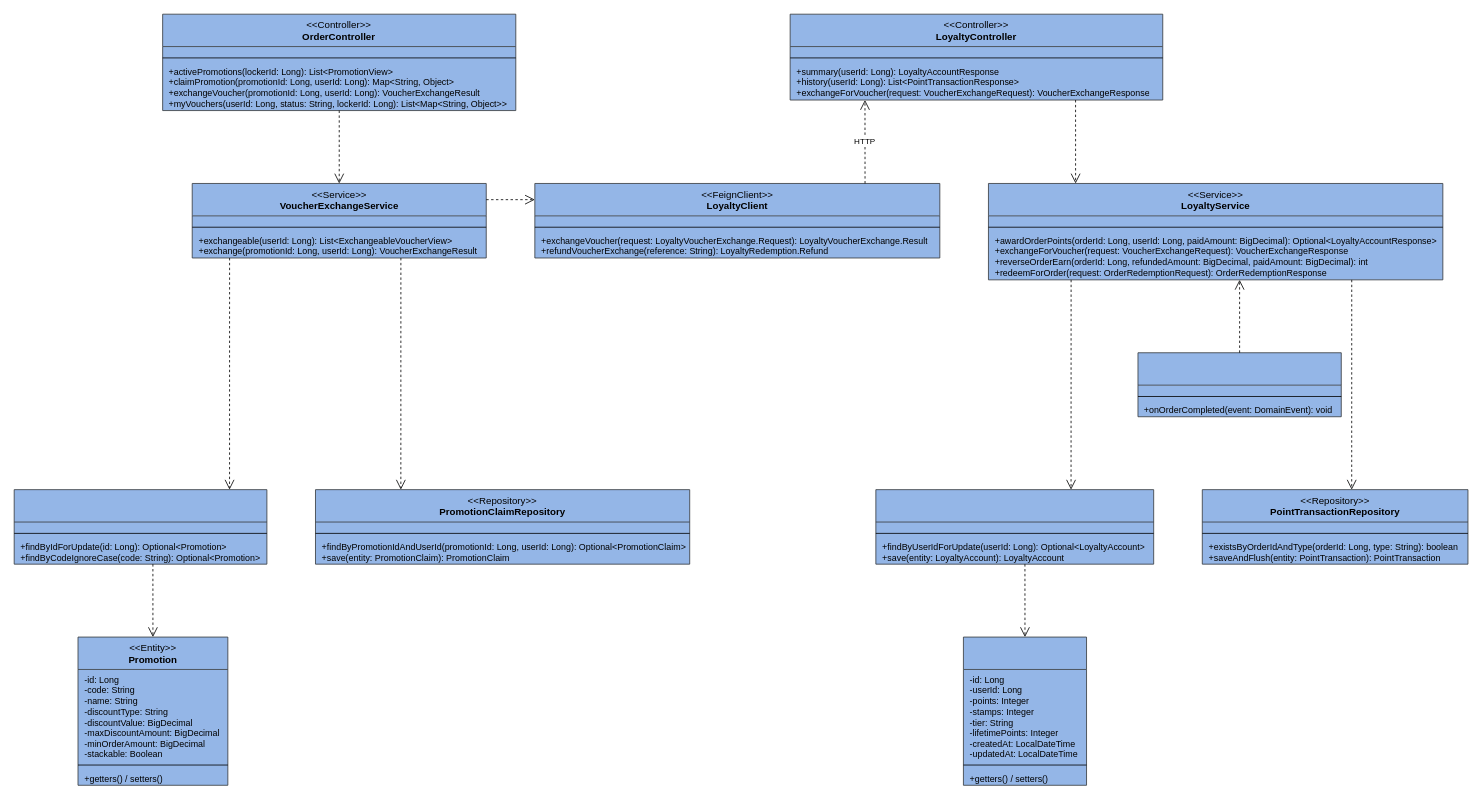
This 1482x802 diagram has some shape labels left out. Here are the shapes that lost their labels. From the top down, the box of each, then its label:
(1137, 352, 1341, 417): <<Component>> OrderCompletedPointsListener
(13, 489, 267, 564): <<Repository>> PromotionRepository
(875, 489, 1154, 564): <<Repository>> LoyaltyAccountRepository
(963, 636, 1087, 785): <<Entity>> LoyaltyAccount
